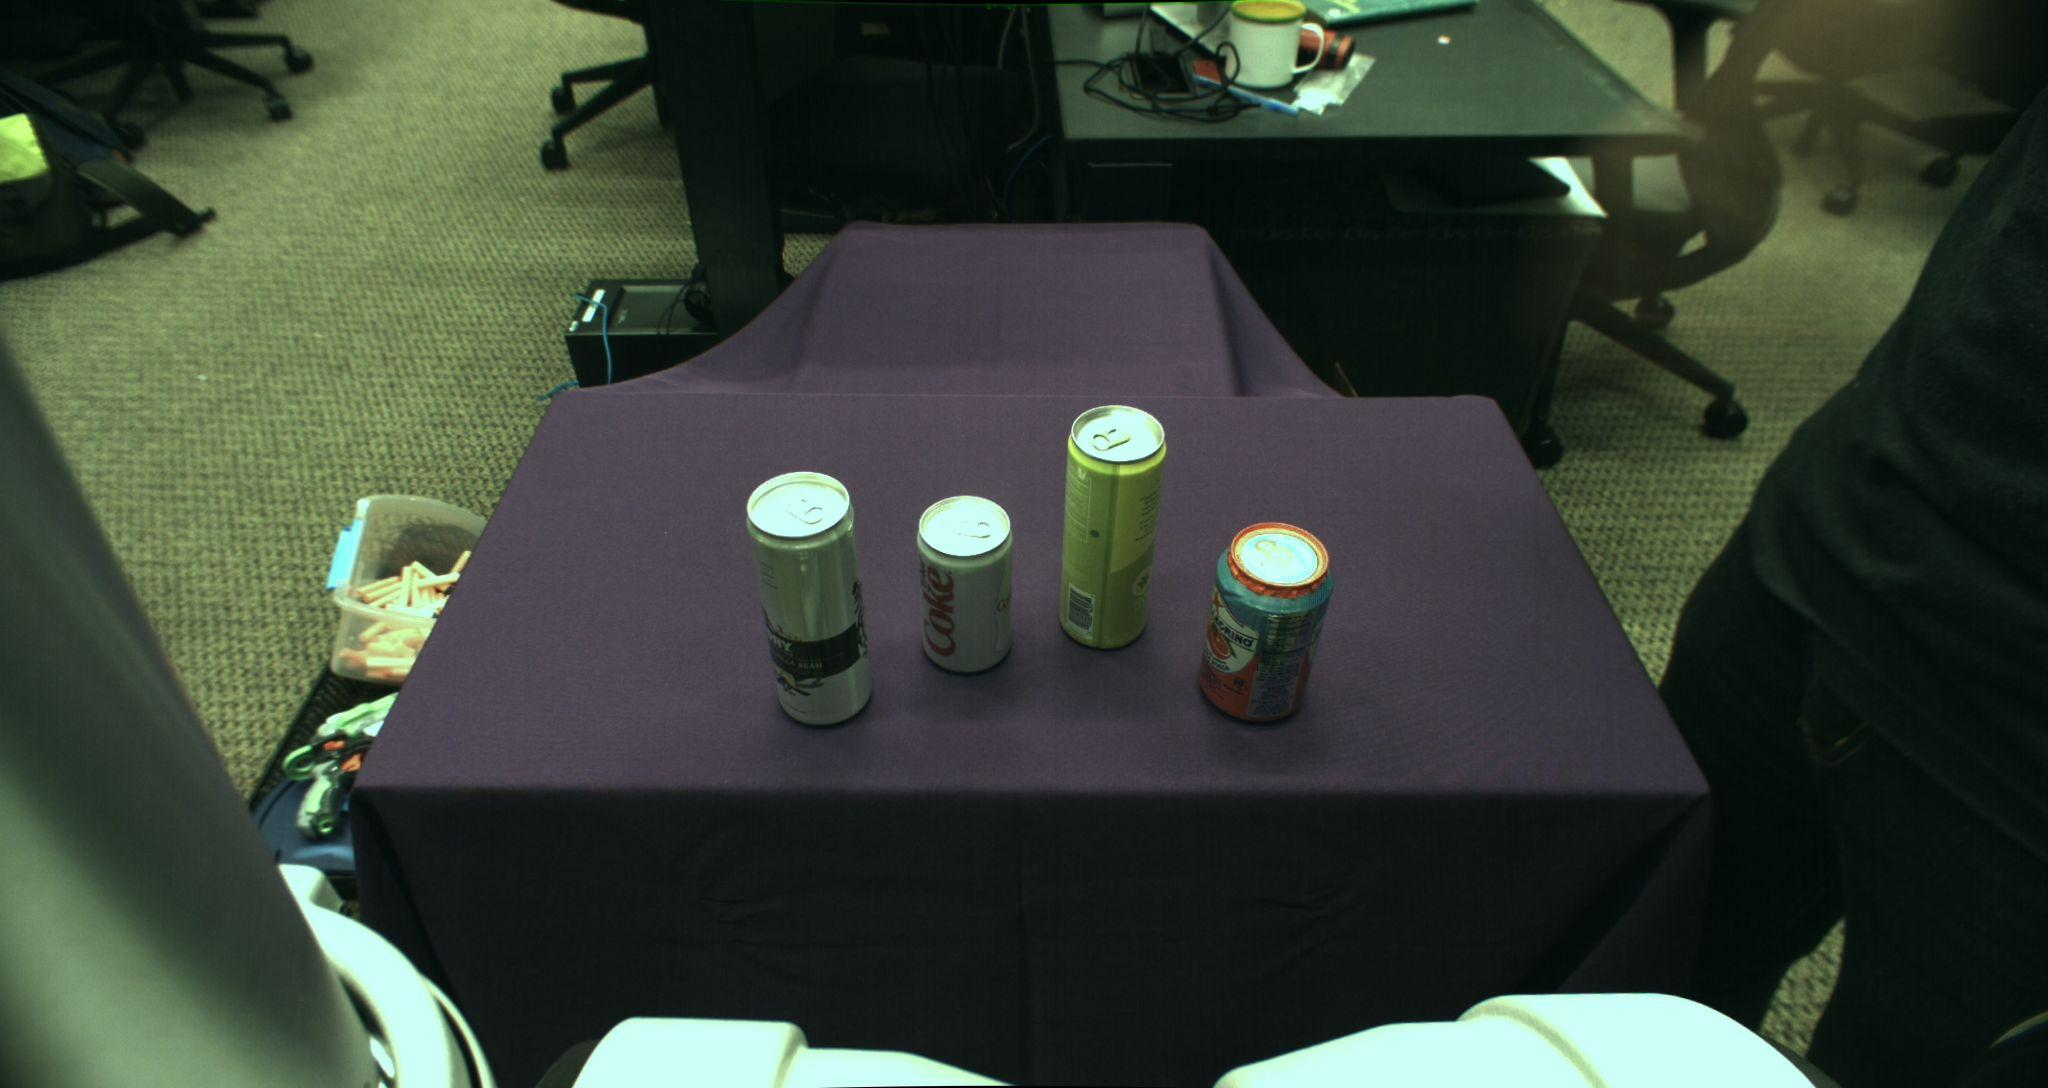can_diet_coke_small: (916, 493, 1013, 673)
can_dry_sparkling_vanilla_bean: (745, 467, 874, 724)
can_izze_fusions_lemon_lime: (1057, 402, 1168, 650)
can_sanpellegrino_blood_orange: (1200, 522, 1336, 724)
